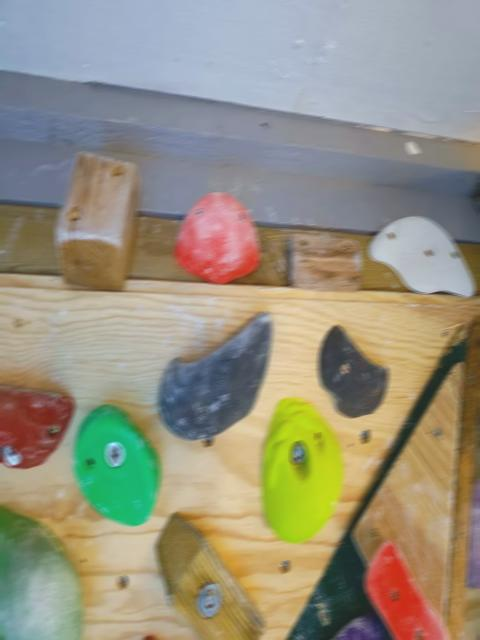jug: (157, 311, 272, 441), (173, 192, 260, 283), (0, 385, 74, 468)
pinch: (154, 512, 266, 639)
